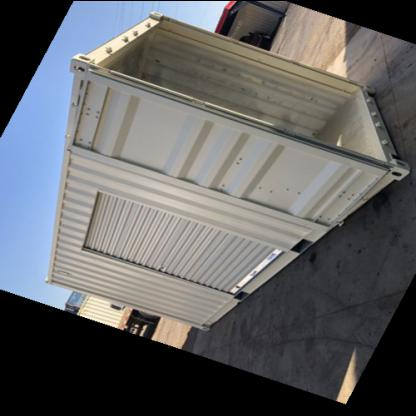Damage: (139, 41, 315, 111), (211, 167, 377, 204)
